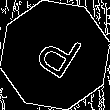P_SW: (26, 24, 84, 86)
